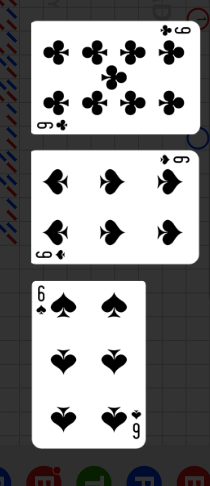6S: (130, 406, 144, 440), (35, 248, 68, 260)
9C: (36, 117, 70, 131)
